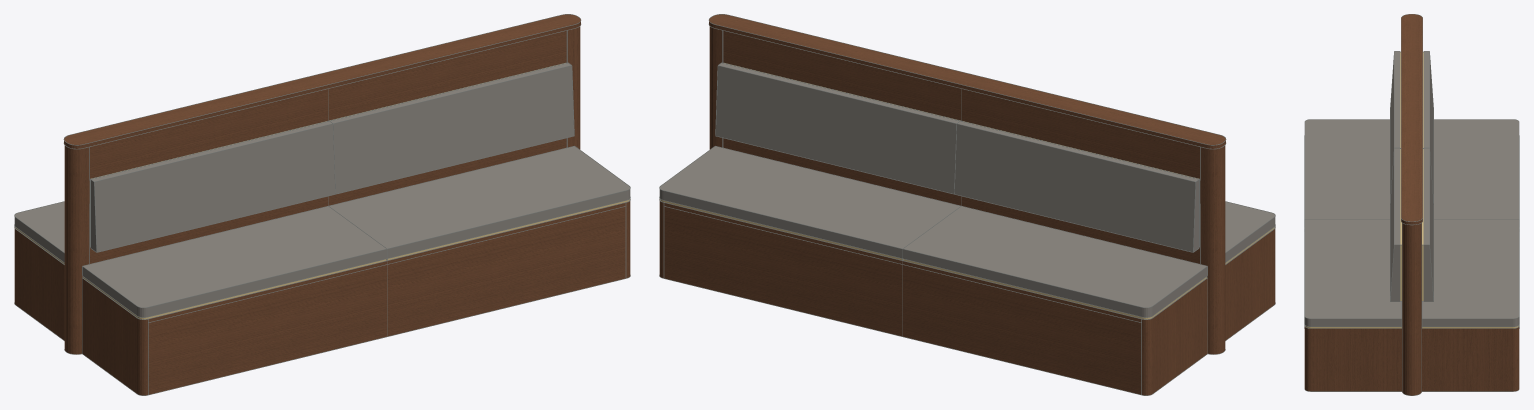
Rendered from modell.glb.
3 views of the same model, side by side, from view 1: azimuth 30°, elevation 25°; view 2: azimuth 150°, elevation 25°; view 3: azimuth 270°, elevation 25° (orthographic). The views are drawn at different scales.
Bounding box in the file's own units: 2819 × 1103 × 1234.
Materials: 7 (1 with a texture image).
